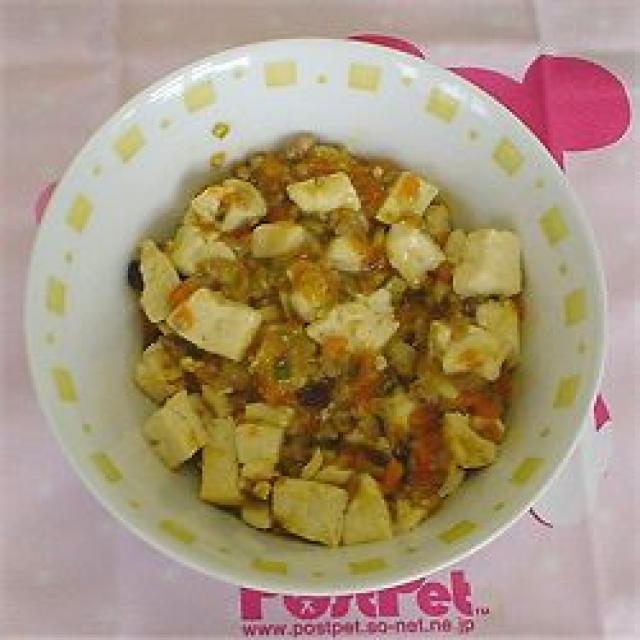豆腐料理: (0, 31, 607, 565)
